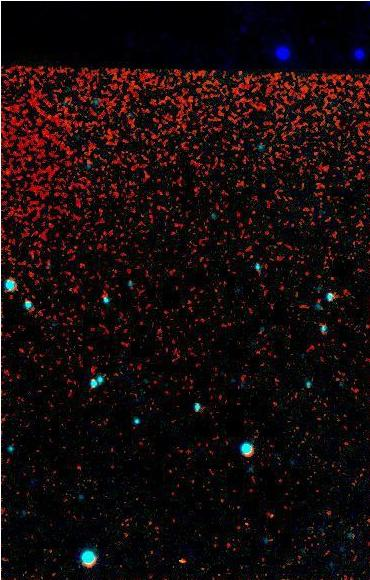star: (165, 546, 195, 576)
